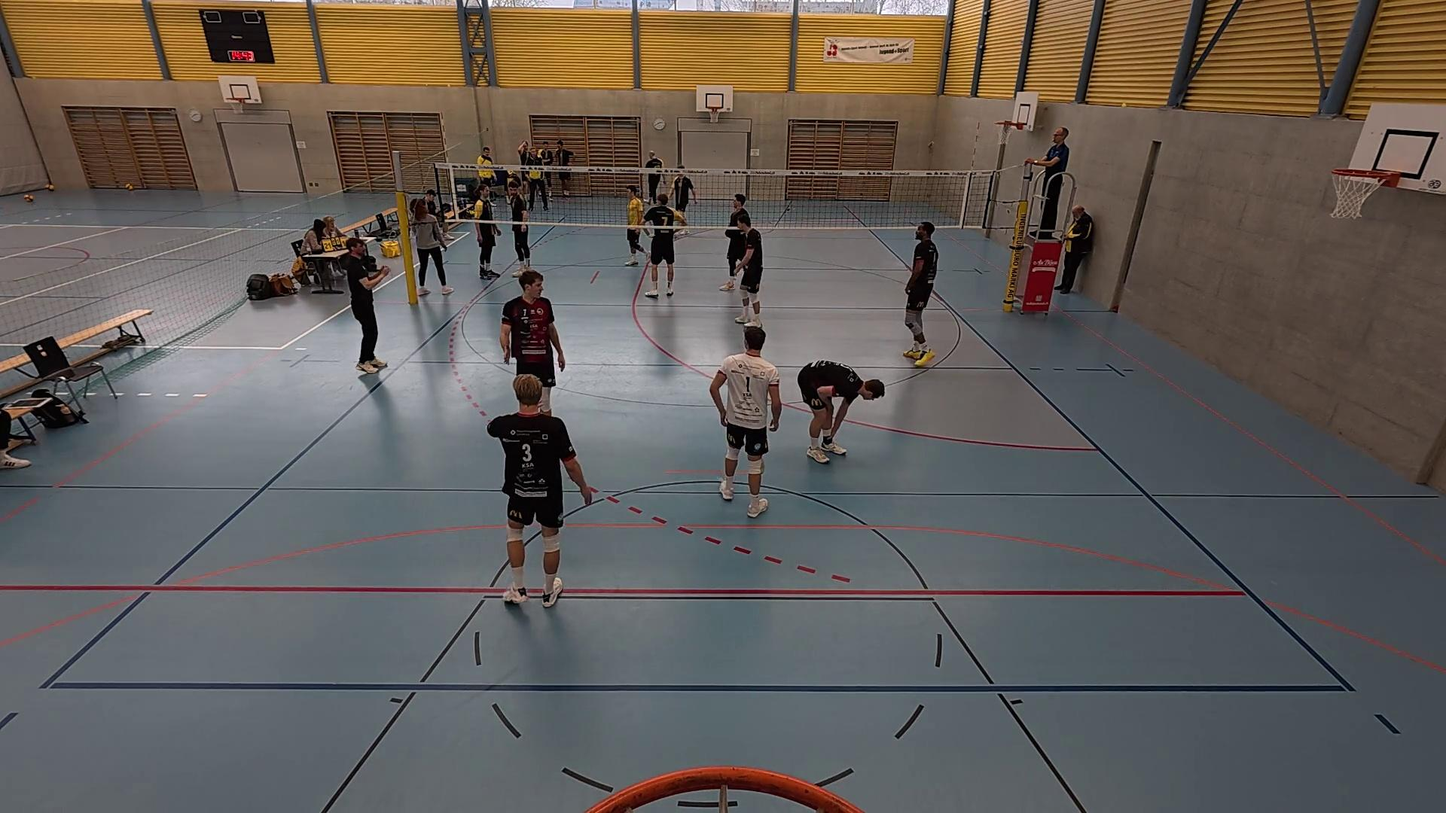Player: (487, 377, 594, 607), (711, 325, 782, 517), (795, 358, 890, 464), (500, 271, 566, 412), (902, 221, 939, 365), (641, 190, 684, 297), (729, 215, 763, 325), (502, 179, 539, 278), (719, 193, 752, 292), (625, 183, 648, 266), (670, 166, 697, 232), (641, 150, 664, 202)
